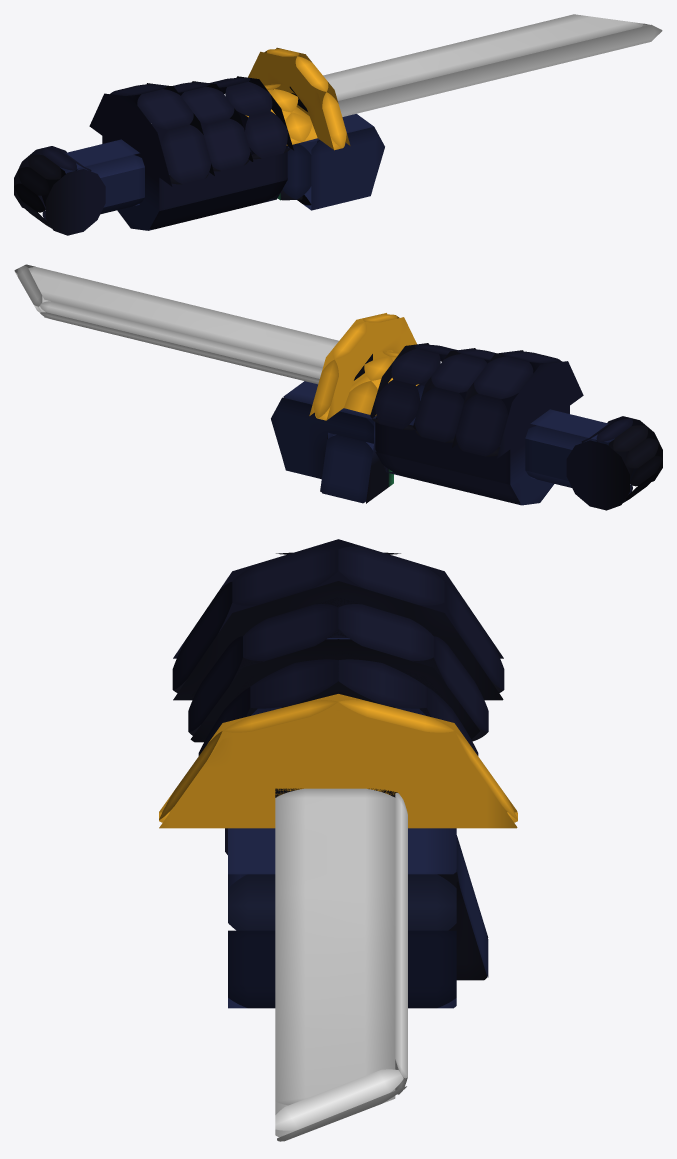
The model's file is ShogunRightArm.obj.
3 views of the same model, one above another, from view 1: azimuth 30°, elevation 25°; view 2: azimuth 150°, elevation 25°; view 3: azimuth 270°, elevation 25° (orthographic). The views are drawn at different scales.
Visible parts, largest first — view 1: cylinder, cuboid, Arm; view 2: cylinder, cuboid, Arm; view 3: cylinder, cuboid.
Part boxes in pixels (x1=…): cylinder: x1=14, y1=47, x2=350, y2=235; cuboid: x1=249, y1=14, x2=662, y2=210; Arm: x1=42, y1=139, x2=144, y2=214; cylinder: x1=309, y1=313, x2=662, y2=510; cuboid: x1=14, y1=264, x2=424, y2=503; Arm: x1=525, y1=409, x2=633, y2=487; cylinder: x1=159, y1=539, x2=517, y2=854; cuboid: x1=228, y1=788, x2=488, y2=1141.
Bounding box in the file's own units: 1.41 × 0.2986 × 0.3559.
Materials: 1 (1 with a texture image).
